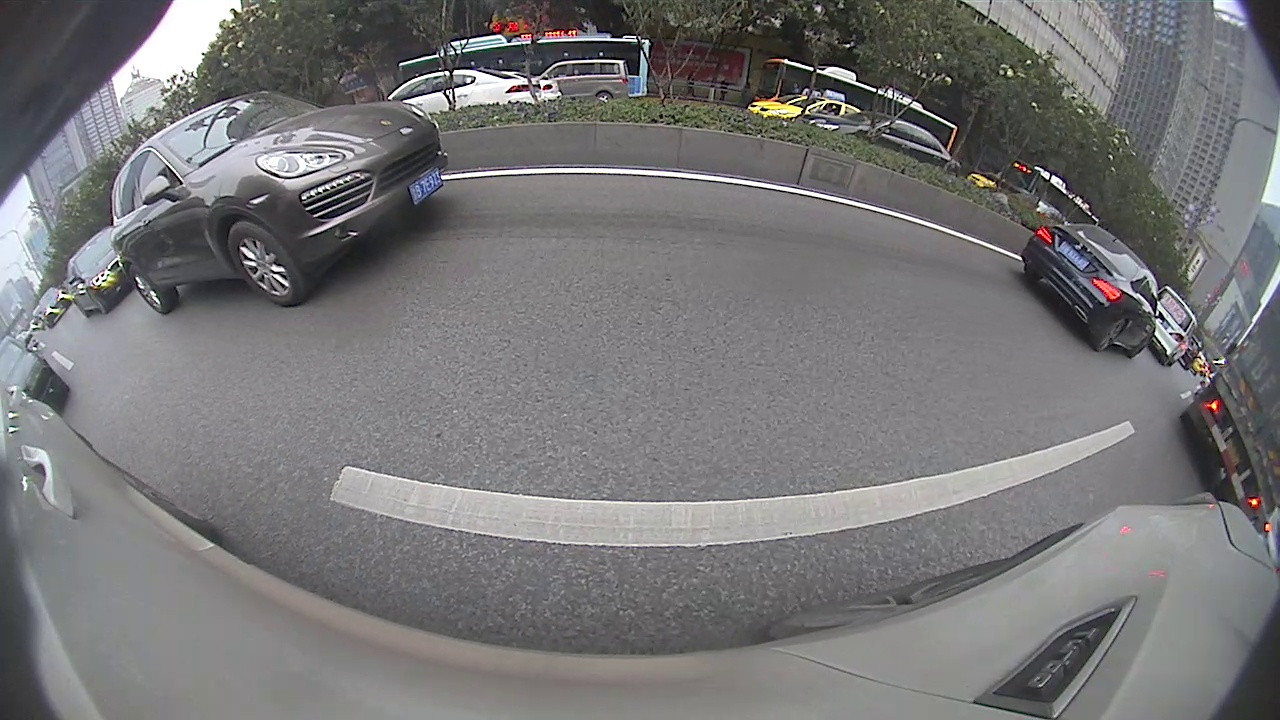car: (110, 93, 448, 315), (1018, 221, 1159, 360), (66, 224, 140, 316), (1152, 284, 1198, 366)
front: (226, 224, 304, 307), (595, 90, 613, 106)
rear: (128, 267, 171, 312), (1093, 317, 1128, 352)
